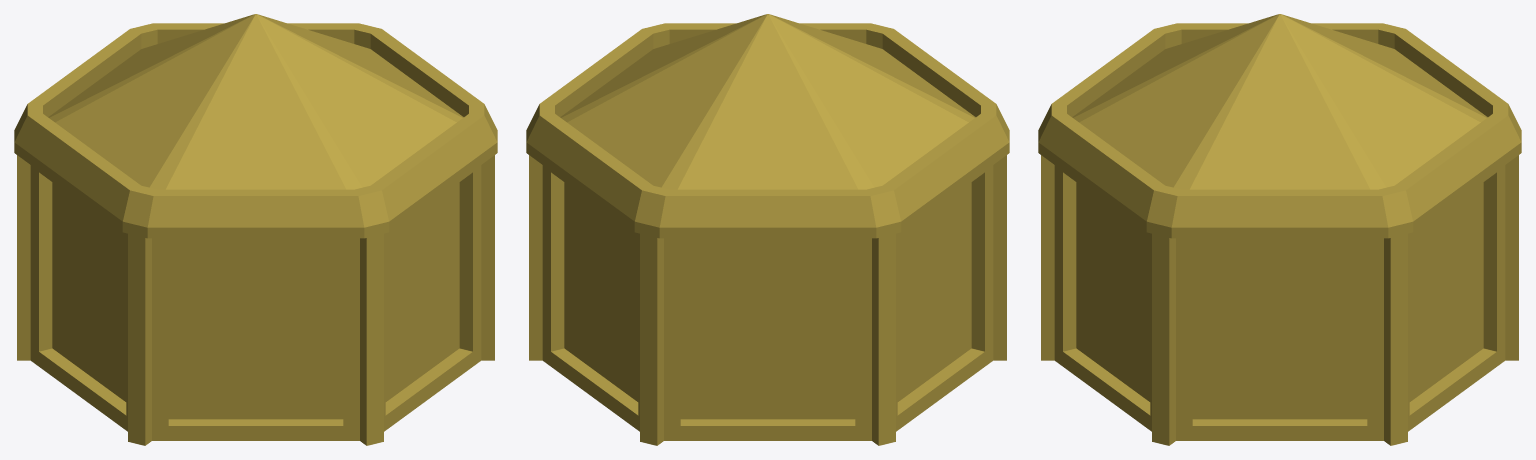
The model's file is pandoraBox.glb.
3 views of the same model, side by side, from view 1: azimuth 30°, elevation 25°; view 2: azimuth 150°, elevation 25°; view 3: azimuth 270°, elevation 25° (orthographic).
Parts seen in each view (by area): view 1: Cylinder; view 2: Cylinder; view 3: Cylinder.
Part boxes in pixels (x1,y1,x2,y2): Cylinder: [14, 14, 497, 445]; Cylinder: [526, 14, 1009, 445]; Cylinder: [1038, 14, 1521, 445].
Size of the model in its own units: 3.75 by 3.26 by 4.18.
1 material, 1 textured.
